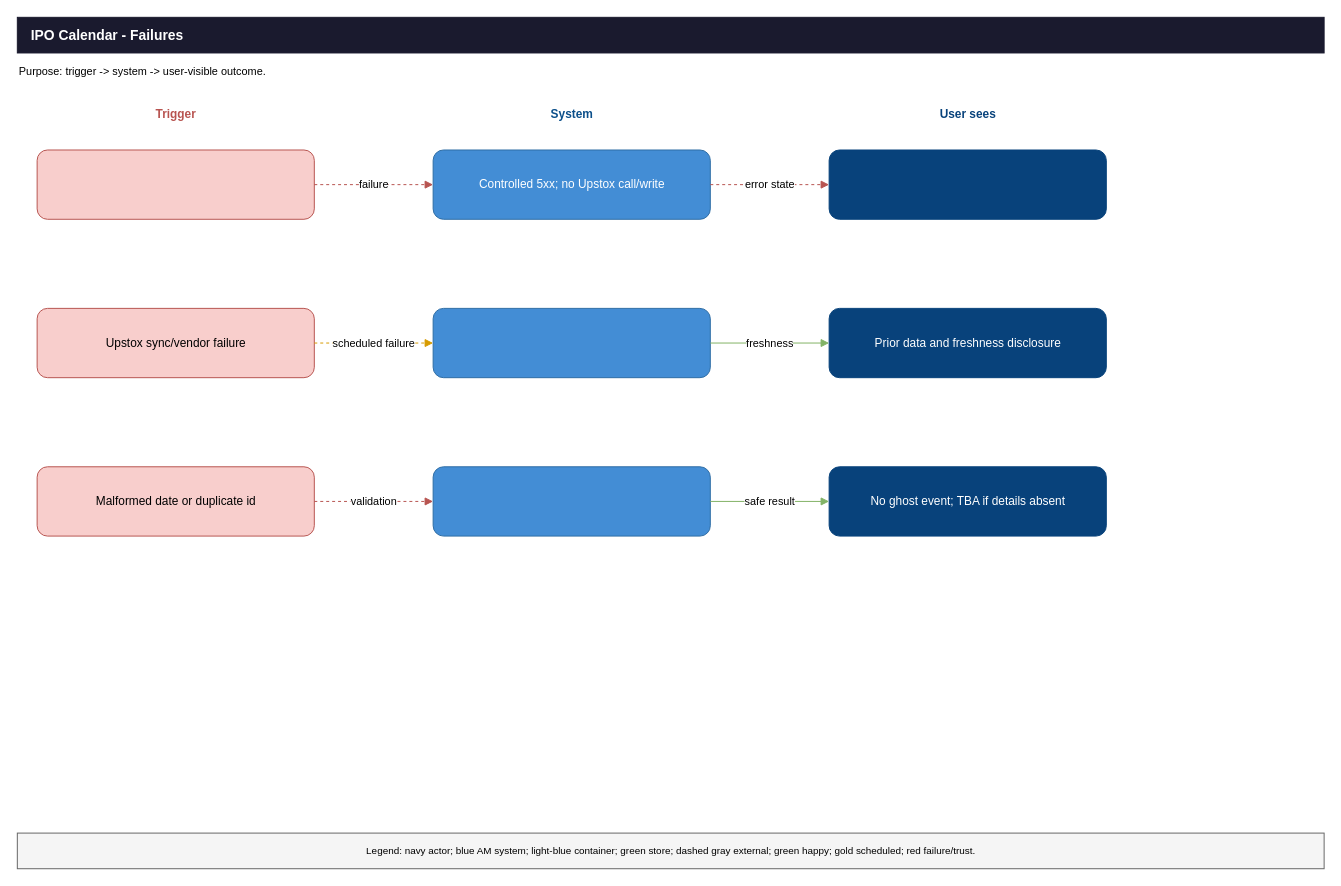
This 1341x886 diagram has some shape labels left out. Here are the shapes that lost their labels. From the top down, the centre of each, then its label:
At (x=175, y=184): "Mongo/cache read failure".
At (x=967, y=184): "Retryable error; no fabricated data".
At (x=571, y=342): "Scheduler logs error; retained snapshot".
At (x=571, y=501): "Skip invalid; stable-id upsert/dedupe".
